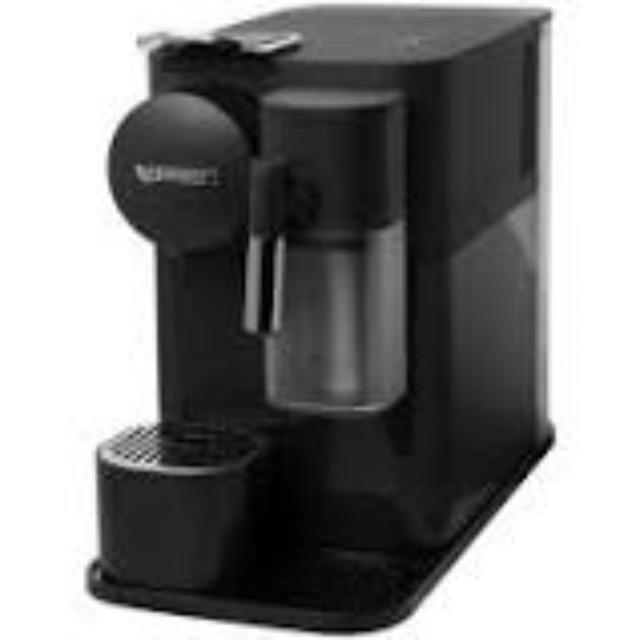Coffee-Machine: (88, 0, 560, 640)
